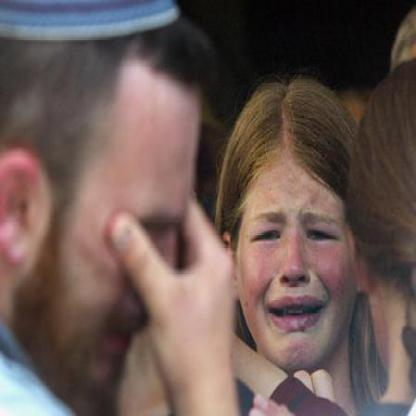face: (234, 103, 361, 375), (1, 1, 2, 2)
